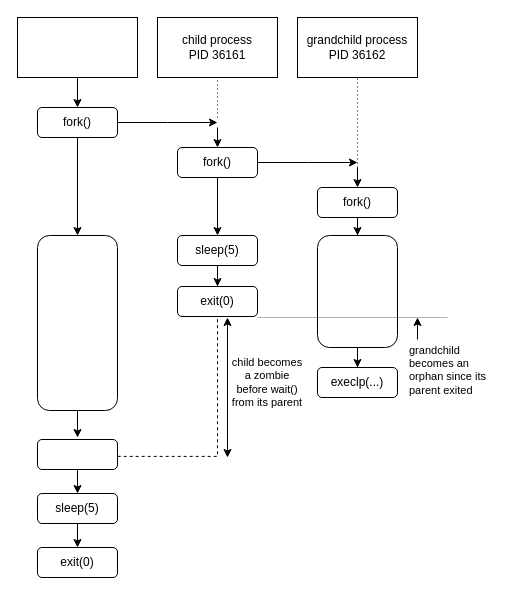
Some shapes in this 505 by 595 pixel diagram are drawn without their labels. The shapes that lost their labels are listed below. From the top down, each one's centre as x and y in pixels, then its label:
At pixel 77 47: "parent process PID 36160".
At pixel 357 291: "sleep(30)".
At pixel 77 322: "sleep(60)".
At pixel 77 454: "waitpid(...)".
